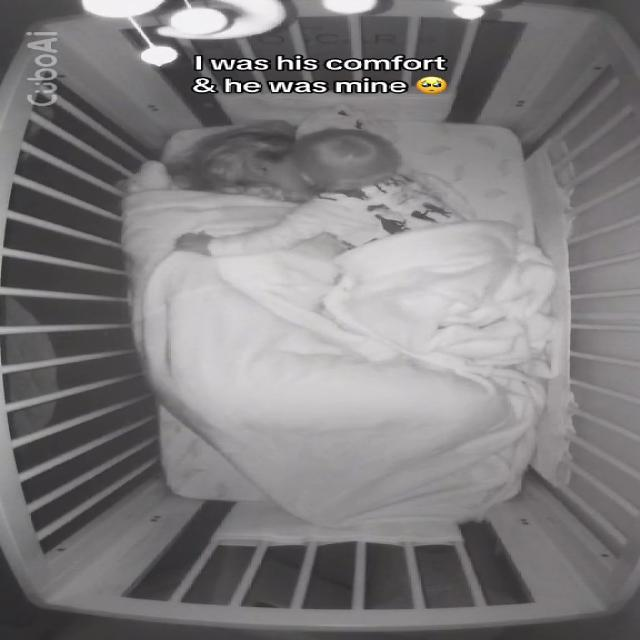baby: (168, 128, 550, 328)
